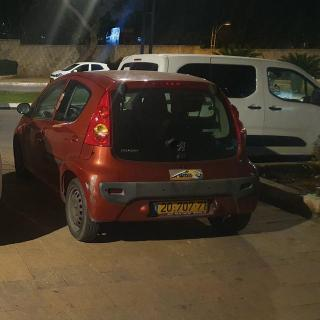LicensePlate: (157, 199, 209, 213)
